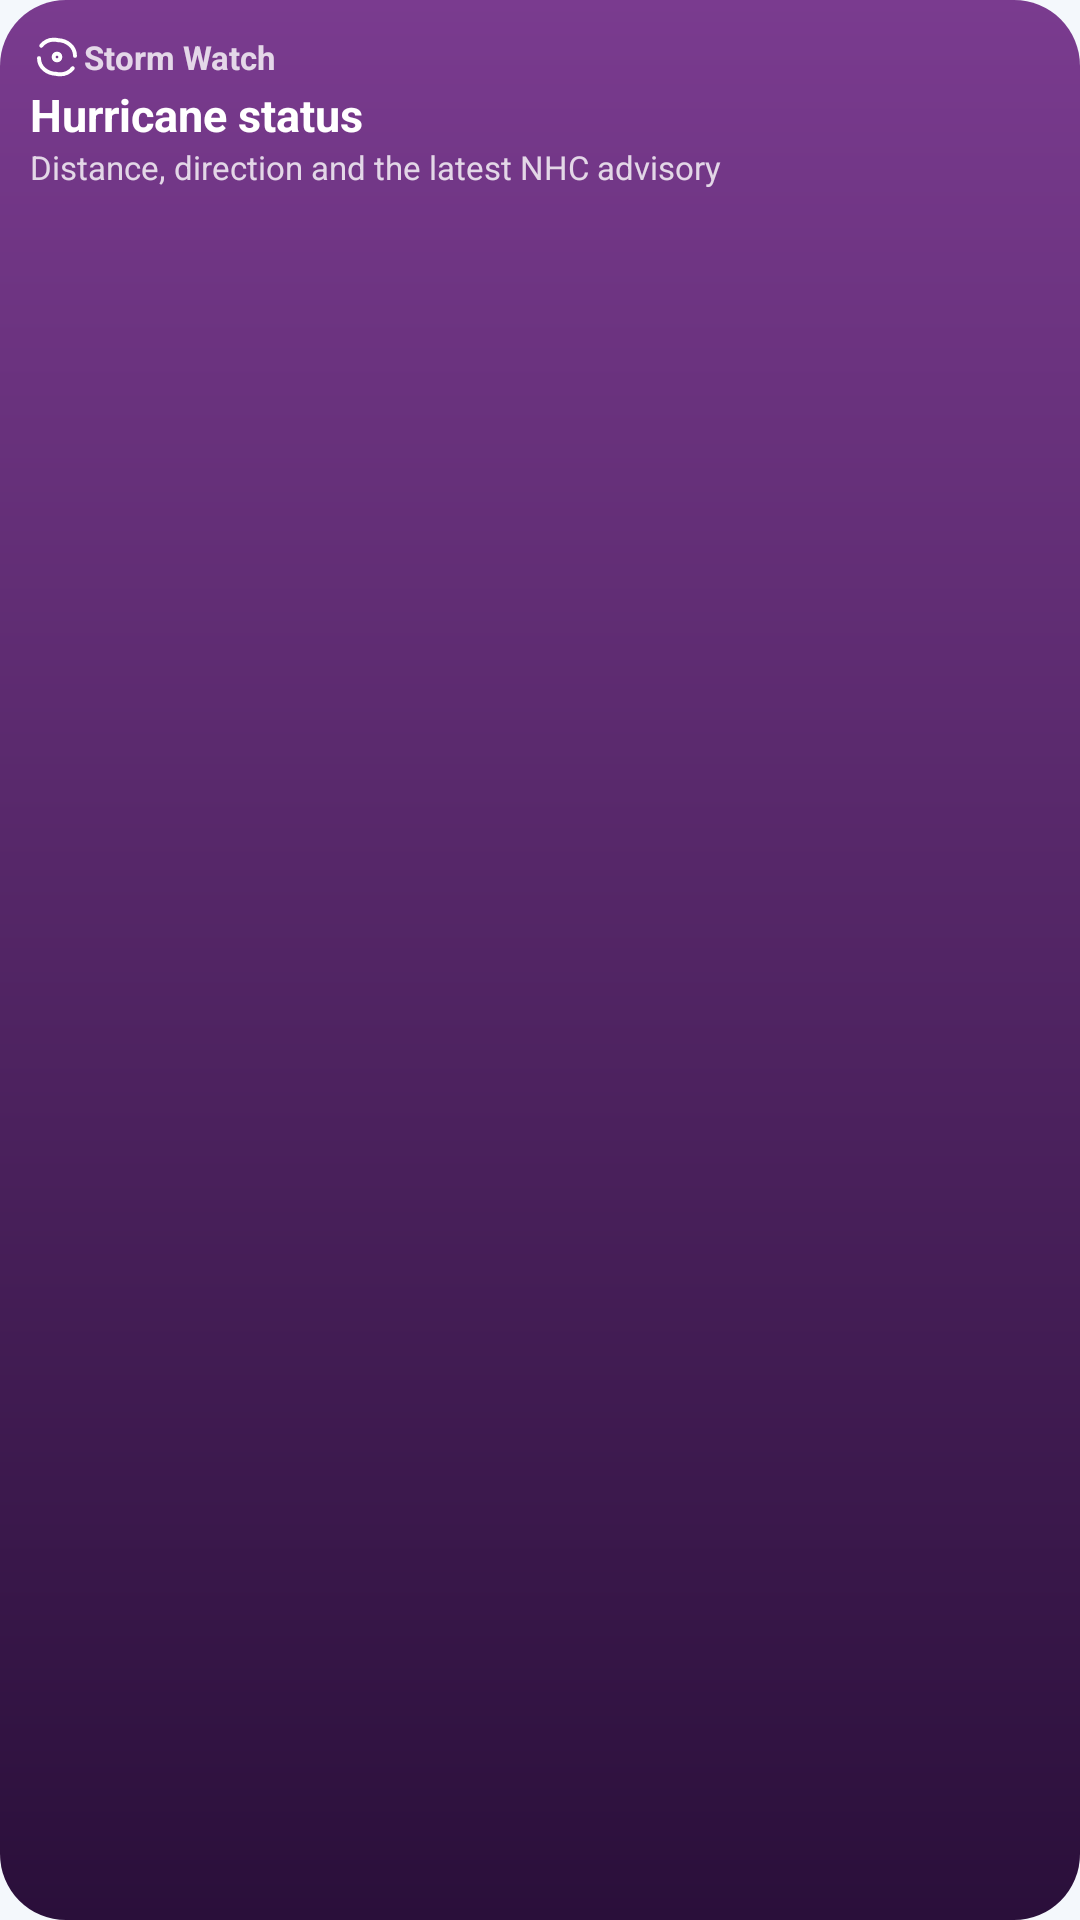

Locate icon controls on the screen. Image size 1080w x 1920h, boxes as box=[x1, y1, x2, y2].
cyclone: box=[37, 37, 77, 77]
